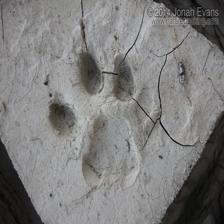puma: (46, 44, 156, 191)
